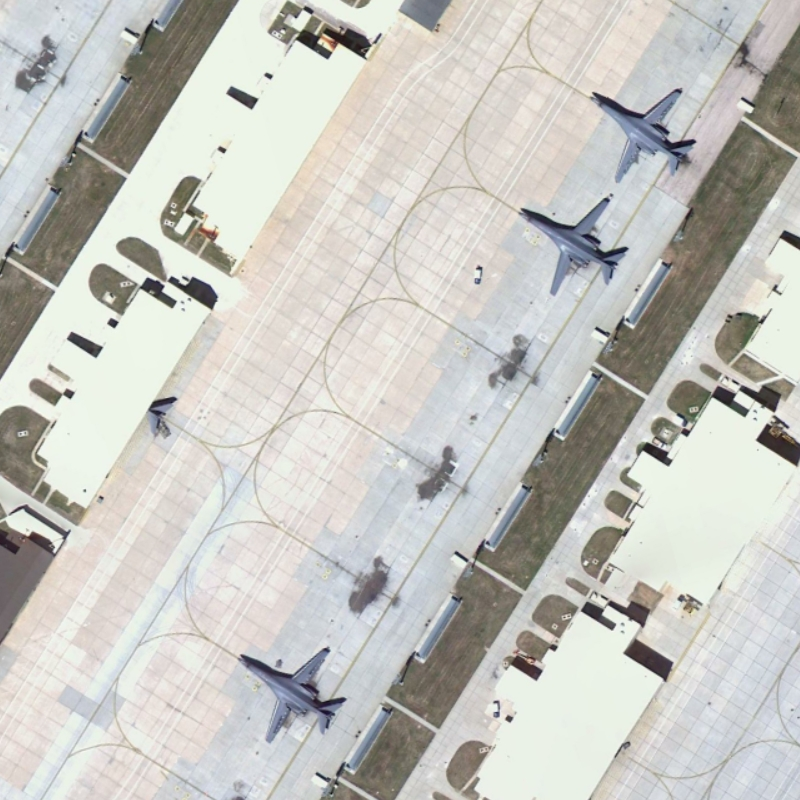A10: (512, 193, 636, 300), (227, 645, 353, 748), (588, 82, 696, 185)
